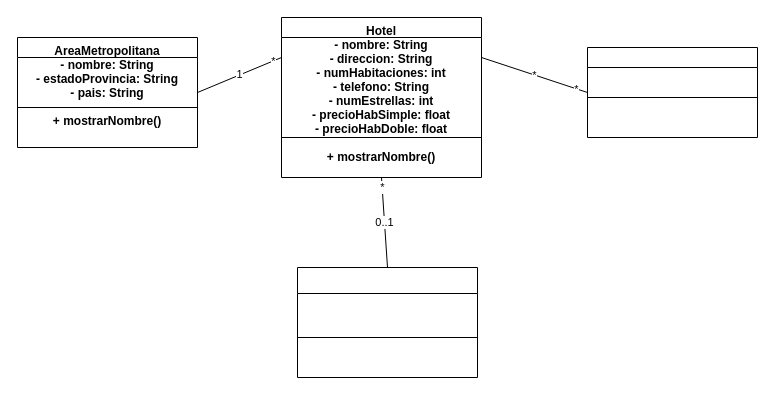
Image size: 776x395. Some labels were removed from this diagram. Here are the shapes that lost their labels. From the top down, the box of each, then its label:
(586, 46, 758, 138): TarjetaCredito - nombre: String + mostrarNombre()
(296, 266, 478, 378): CadenaHotelera - nombre: String - director: String + mostrarDirector()
